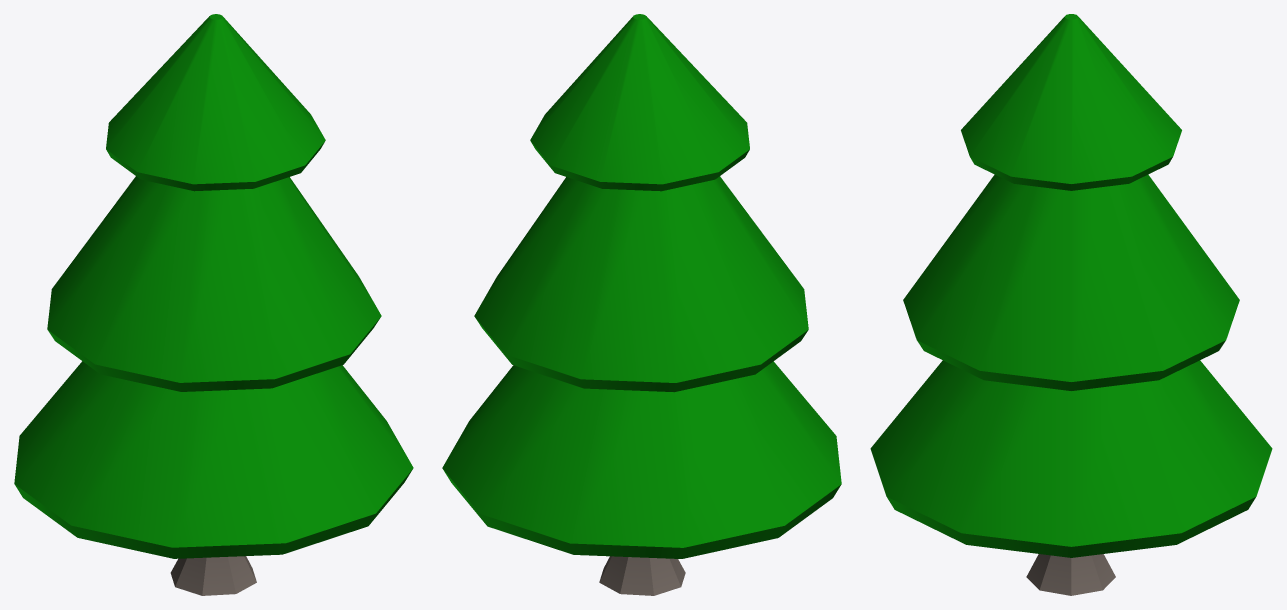
The model's file is Tree.fbx.
3 views of the same model, side by side, from view 1: azimuth 30°, elevation 25°; view 2: azimuth 150°, elevation 25°; view 3: azimuth 270°, elevation 25° (orthographic).
Parts seen in each view (by area): view 1: pCylinder1, pCylinder2; view 2: pCylinder1, pCylinder2; view 3: pCylinder1, pCylinder2.
Boxes of the visible parts, x1,y1,x2,y2 form: pCylinder1: (14, 14, 413, 558); pCylinder2: (170, 556, 256, 595); pCylinder1: (442, 14, 841, 558); pCylinder2: (599, 556, 685, 595); pCylinder1: (870, 14, 1272, 557); pCylinder2: (1026, 554, 1115, 595).
Size of the model in its own units: 10.75 by 16.73 by 10.86.
